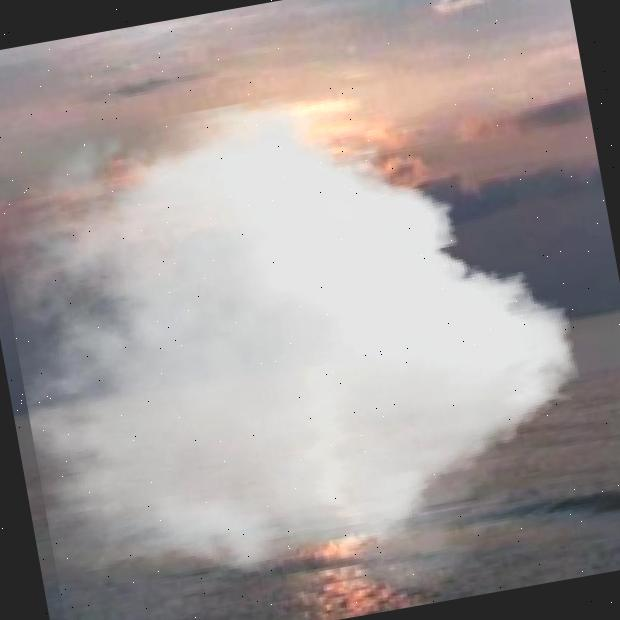smoke: (0, 45, 614, 620)
